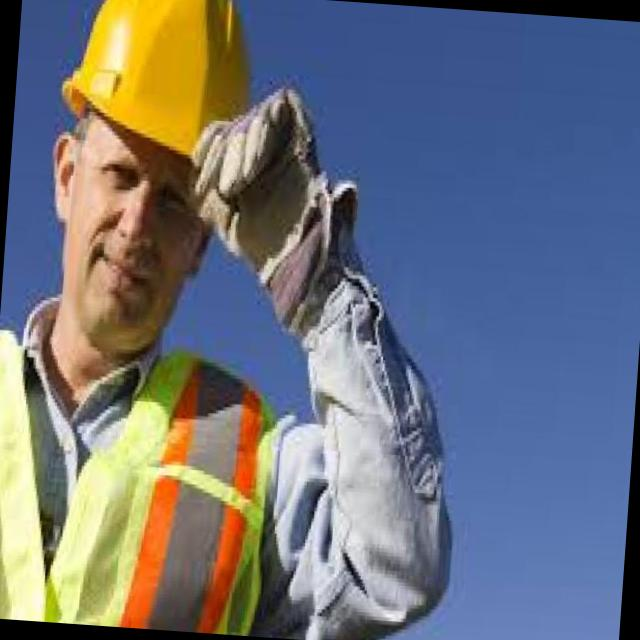gloved: (166, 74, 382, 346)
